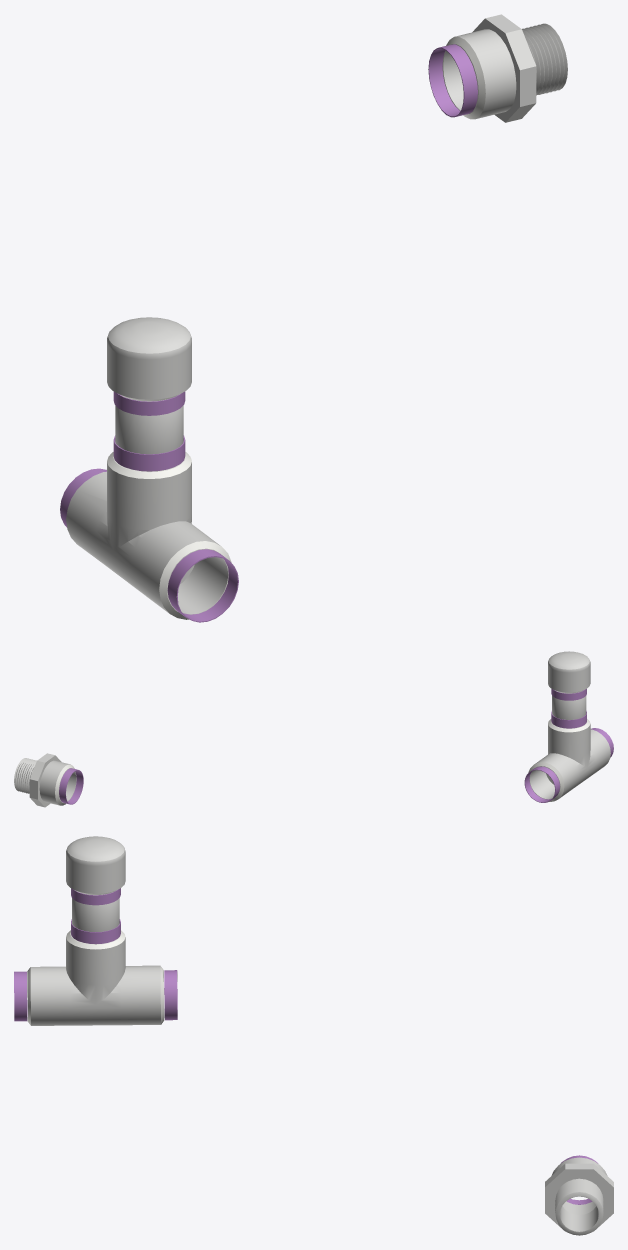
File: pipes_hvac__hvac__925191dc.glb
3 renders of one model, top to bottom at view 1: azimuth 30°, elevation 25°; view 2: azimuth 150°, elevation 25°; view 3: azimuth 270°, elevation 25°, orthographic. The views are drawn at different scales.
Parts seen in each view (by area): view 1: fit_wye_pipe_hvac_condensate_hp_drain_cleanout, fit_adapter_pipe_hvac_condensate_hp_drain, cap_hvac_condensate_hp_drain_cleanout, pipe_hvac_condensate_hp_drain_cleanout; view 2: fit_wye_pipe_hvac_condensate_hp_drain_cleanout, fit_adapter_pipe_hvac_condensate_hp_drain, cap_hvac_condensate_hp_drain_cleanout, pipe_hvac_condensate_hp_drain_cleanout; view 3: fit_wye_pipe_hvac_condensate_hp_drain_cleanout, fit_adapter_pipe_hvac_condensate_hp_drain, cap_hvac_condensate_hp_drain_cleanout, pipe_hvac_condensate_hp_drain_cleanout.
Part boxes in pixels (x1=…): fit_wye_pipe_hvac_condensate_hp_drain_cleanout: x1=60, y1=435, x2=238, y2=622; fit_adapter_pipe_hvac_condensate_hp_drain: x1=428, y1=14, x2=567, y2=122; cap_hvac_condensate_hp_drain_cleanout: x1=107, y1=317, x2=191, y2=415; pipe_hvac_condensate_hp_drain_cleanout: x1=115, y1=397, x2=183, y2=471; fit_wye_pipe_hvac_condensate_hp_drain_cleanout: x1=524, y1=711, x2=613, y2=802; fit_adapter_pipe_hvac_condensate_hp_drain: x1=14, y1=753, x2=83, y2=807; cap_hvac_condensate_hp_drain_cleanout: x1=548, y1=651, x2=590, y2=700; pipe_hvac_condensate_hp_drain_cleanout: x1=552, y1=692, x2=586, y2=728; fit_wye_pipe_hvac_condensate_hp_drain_cleanout: x1=14, y1=919, x2=177, y2=1025; fit_adapter_pipe_hvac_condensate_hp_drain: x1=545, y1=1155, x2=613, y2=1235; cap_hvac_condensate_hp_drain_cleanout: x1=66, y1=836, x2=125, y2=905; pipe_hvac_condensate_hp_drain_cleanout: x1=72, y1=892, x2=119, y2=944.
Size of the model in its own units: 0.3539 by 0.1108 by 0.335.
